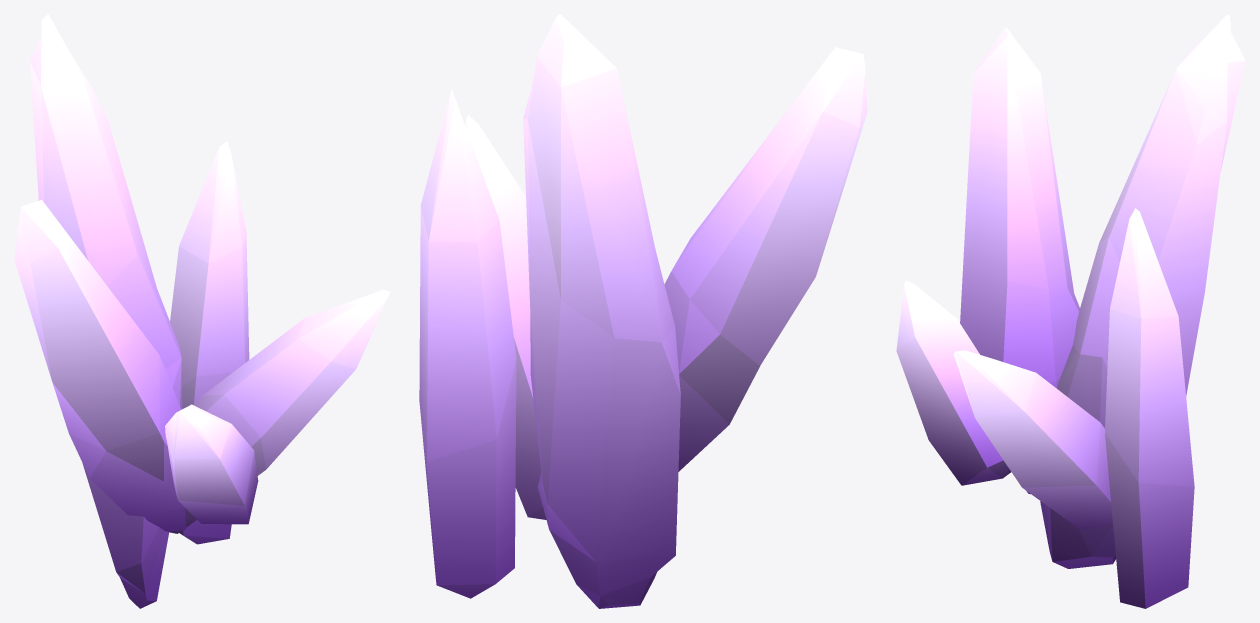
The model's file is res_crystals_b.gltf.
3 renders of one model, left to right at view 1: azimuth 30°, elevation 25°; view 2: azimuth 150°, elevation 25°; view 3: azimuth 270°, elevation 25°, orthographic. The views are drawn at different scales.
Visible parts, largest first — view 1: res_crystals_b; view 2: res_crystals_b; view 3: res_crystals_b.
Boxes of the visible parts, x1,y1,x2,y2 form: res_crystals_b: (14, 14, 390, 608); res_crystals_b: (419, 14, 867, 608); res_crystals_b: (896, 14, 1245, 608).
Size of the model in its own units: 4.72 by 7.03 by 4.06.
1 material, 1 textured.
